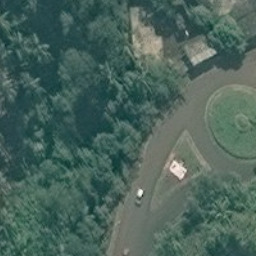buildings: (182, 35, 232, 68), (171, 163, 196, 184)
